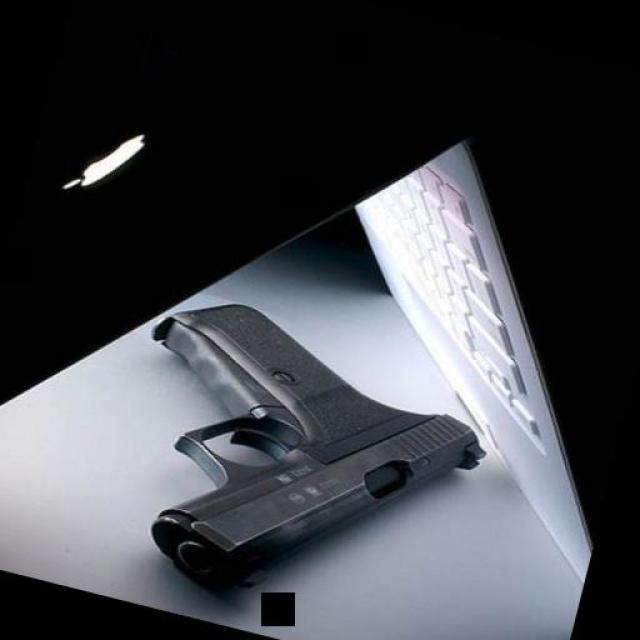gun: (86, 279, 508, 640)
